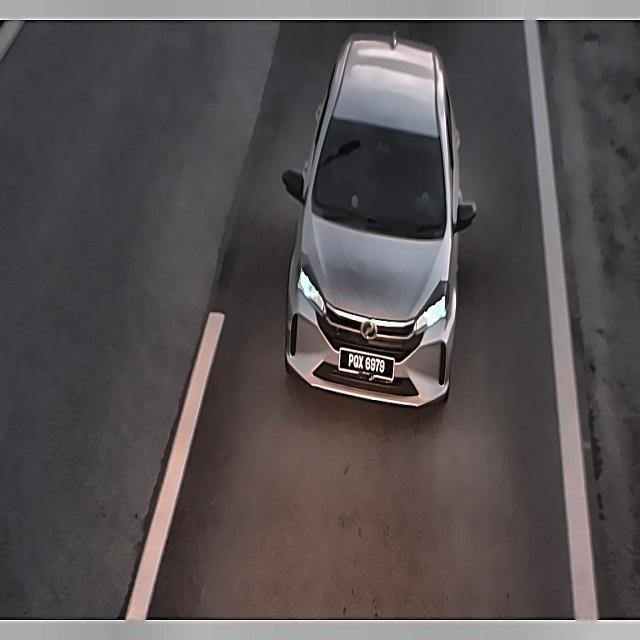car: (337, 344, 398, 389)
